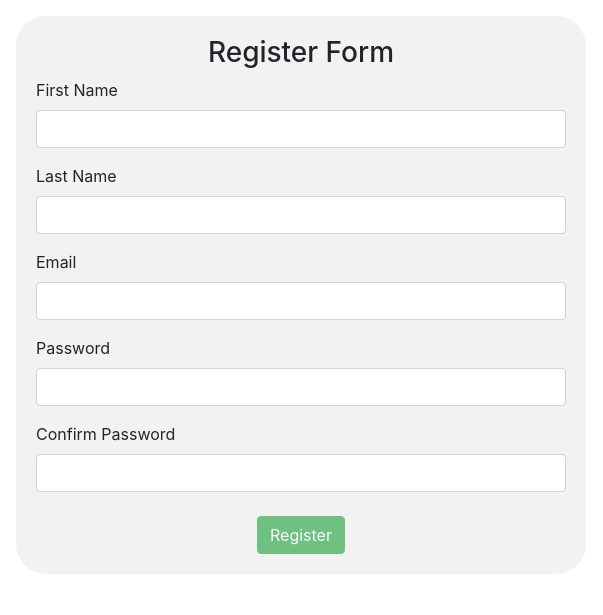
Scenario: register page › test password validation › focus password, leave empty, focus another input, expect error saying *Please enter the password
This screenshot has width=603, height=615.
Focus the 1st password field named "password" at [301, 387], box [36,368,566,406]
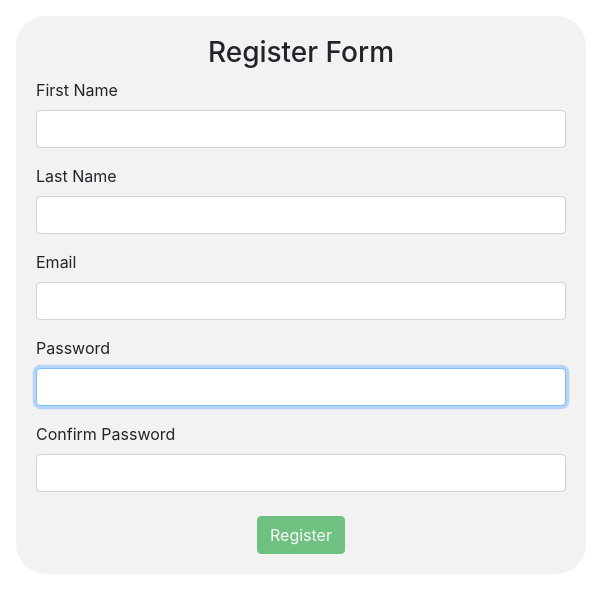
Focus the password field named "confirmPassword" below "Confirm Password" at [301, 473], box [36,454,566,492]
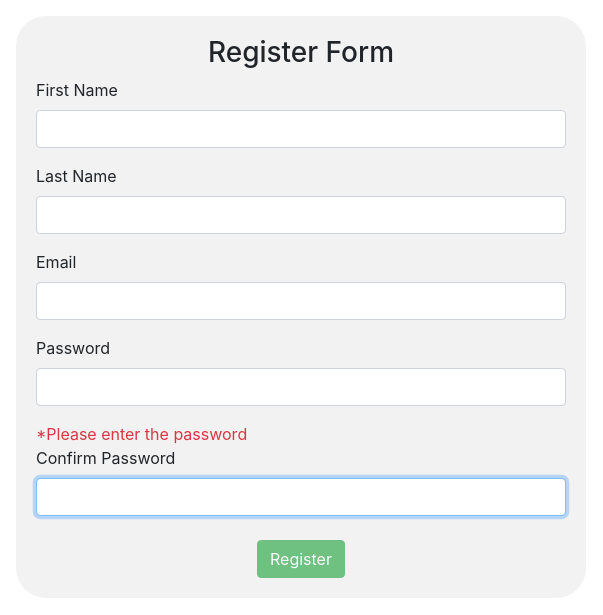
Expected: the text "*Please enter the password" is shown, [36,424,247,444]
